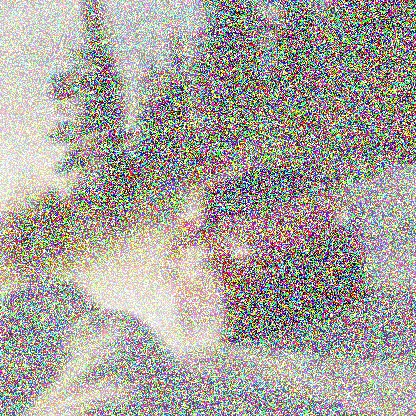Vehicle: (166, 158, 370, 346)
